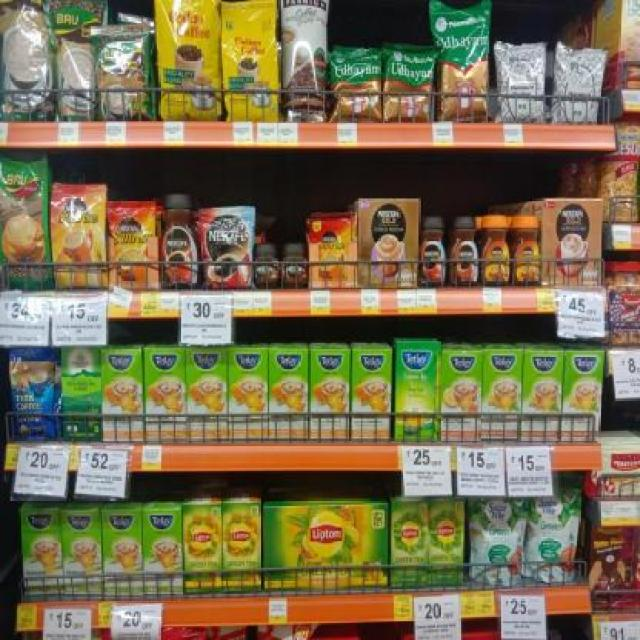Coffee: (51, 185, 106, 287), (200, 210, 252, 288), (107, 202, 155, 284), (161, 197, 199, 288), (478, 217, 510, 286), (512, 216, 540, 287), (449, 219, 478, 284), (419, 220, 447, 286), (253, 243, 279, 289), (283, 243, 308, 285)
